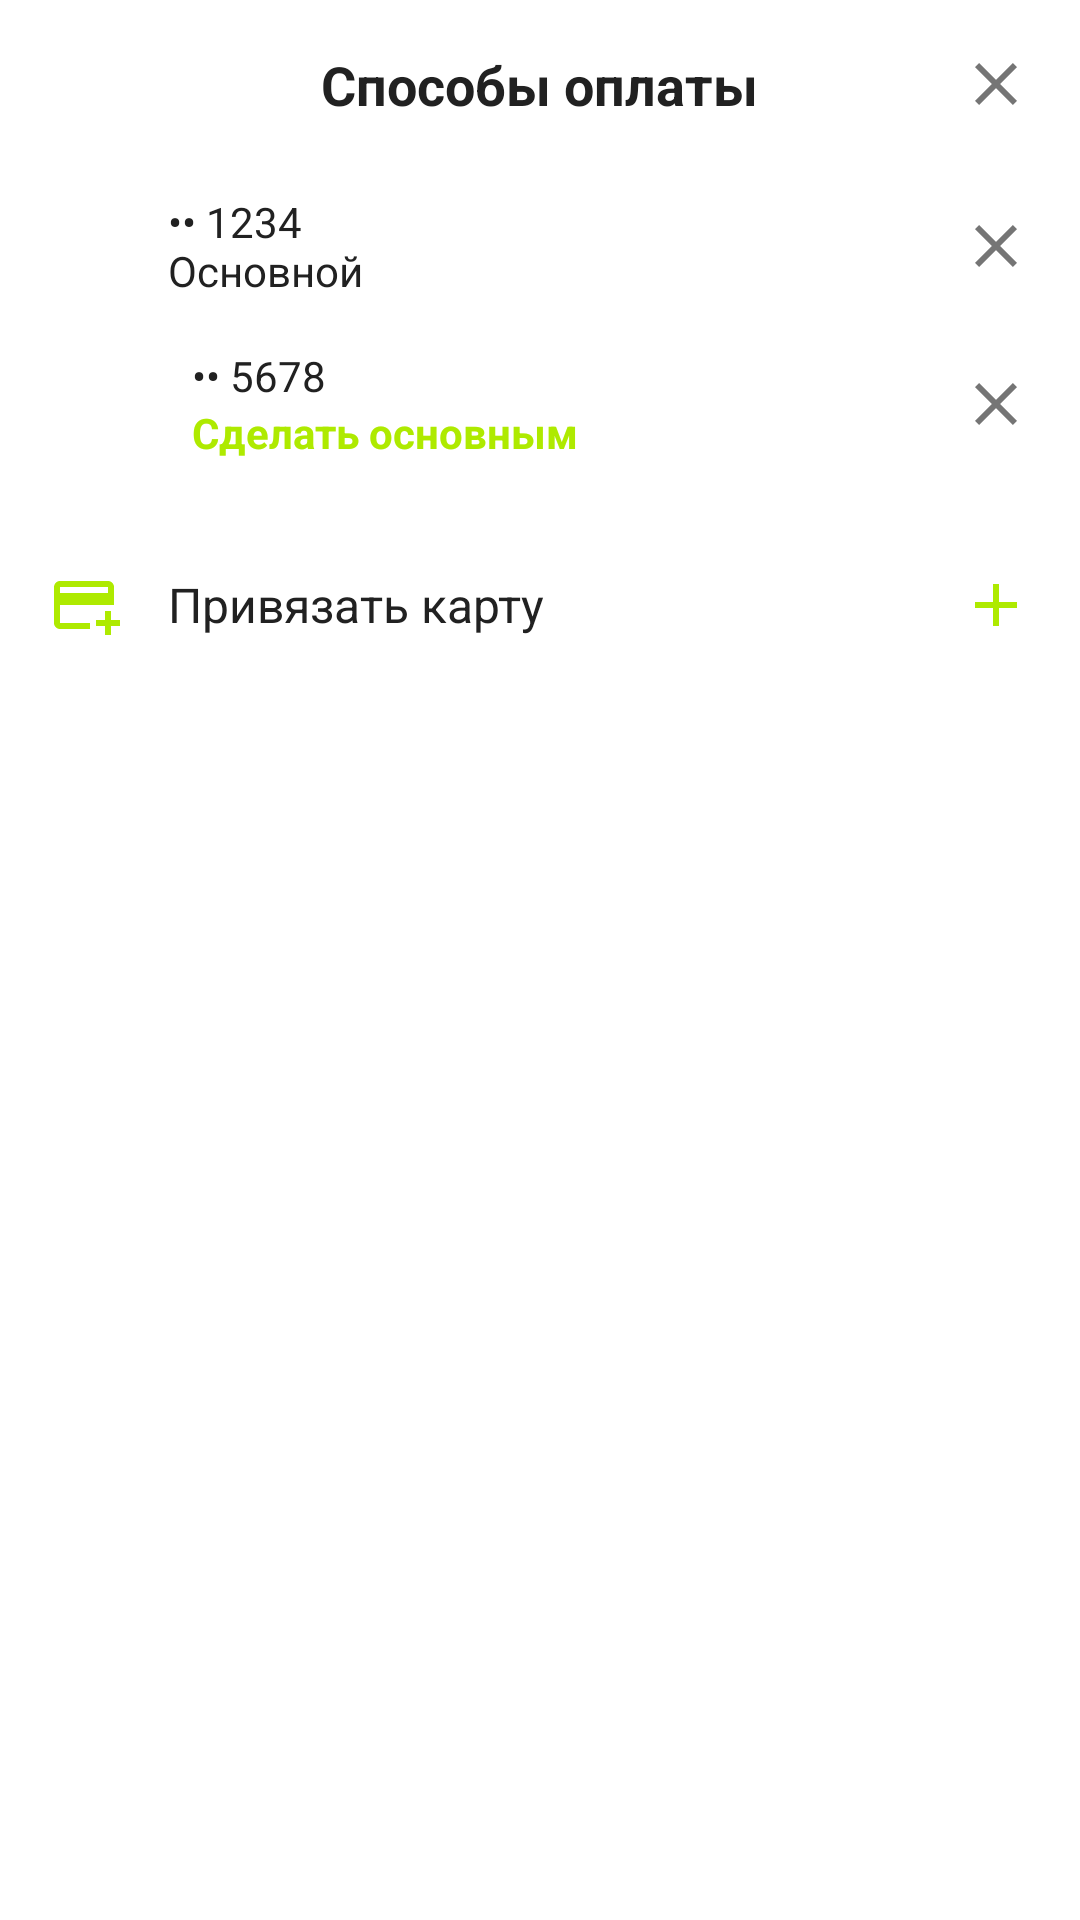

Screen size 1080 x 1920. Icon name, then its center in pixels as [x,y]:
add: [996,605]
add card: [87,608]
close: [996,84], [996,246], [996,404]
